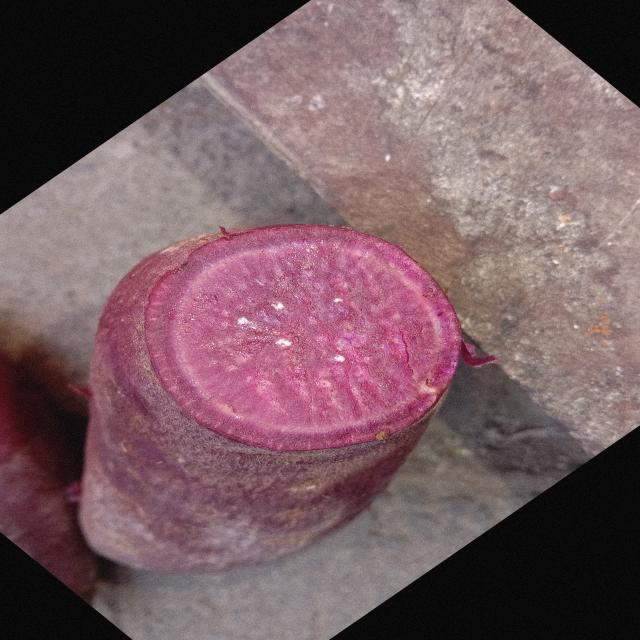Healthy Sweet Potato: (145, 225, 462, 451)
